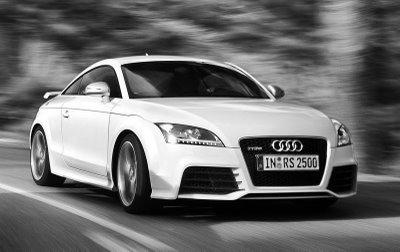car: (29, 55, 362, 210)
